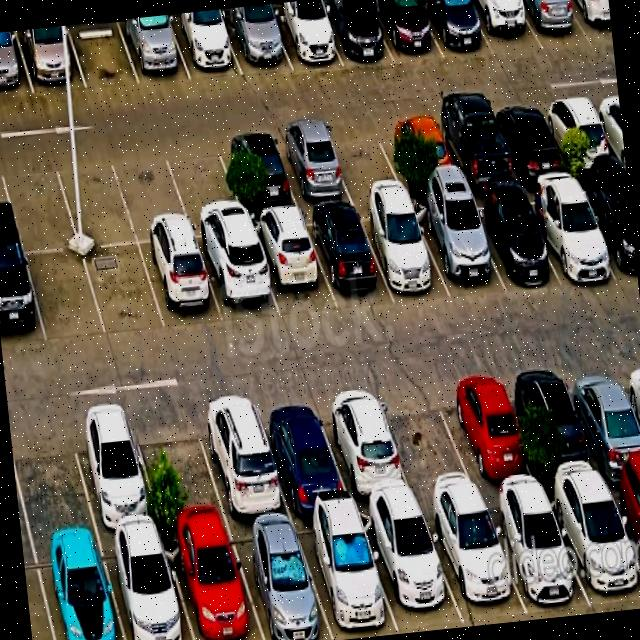empty: (372, 376, 481, 504), (129, 405, 228, 530), (9, 413, 97, 544), (162, 138, 247, 238), (52, 151, 137, 248), (111, 146, 193, 243), (0, 155, 79, 252), (83, 244, 165, 337), (25, 250, 106, 343), (322, 122, 404, 199), (67, 20, 139, 88)
occupied: (293, 512, 398, 640), (483, 492, 591, 615), (421, 498, 527, 623), (358, 507, 464, 631), (437, 369, 540, 496), (192, 392, 291, 523), (226, 521, 333, 640), (544, 481, 640, 613), (314, 384, 416, 505), (253, 392, 352, 515), (509, 362, 605, 488), (66, 408, 161, 535), (162, 526, 263, 640), (520, 179, 618, 283), (100, 532, 193, 640), (410, 197, 506, 298), (463, 191, 559, 291), (562, 358, 640, 480), (33, 538, 124, 640), (248, 213, 336, 318), (303, 206, 393, 308), (356, 203, 450, 299), (139, 239, 223, 330), (195, 234, 280, 323), (430, 108, 517, 190), (216, 132, 299, 215), (575, 175, 638, 281), (272, 127, 353, 207), (377, 115, 460, 190), (489, 100, 568, 178), (539, 95, 617, 170), (167, 12, 242, 80), (118, 14, 190, 84), (317, 0, 393, 66), (267, 3, 342, 69), (15, 25, 86, 93), (221, 8, 291, 74), (370, 0, 443, 63), (0, 250, 46, 349), (467, 0, 543, 57), (421, 0, 493, 58), (517, 0, 591, 49), (605, 475, 640, 567), (0, 30, 33, 96), (568, 0, 613, 43)
